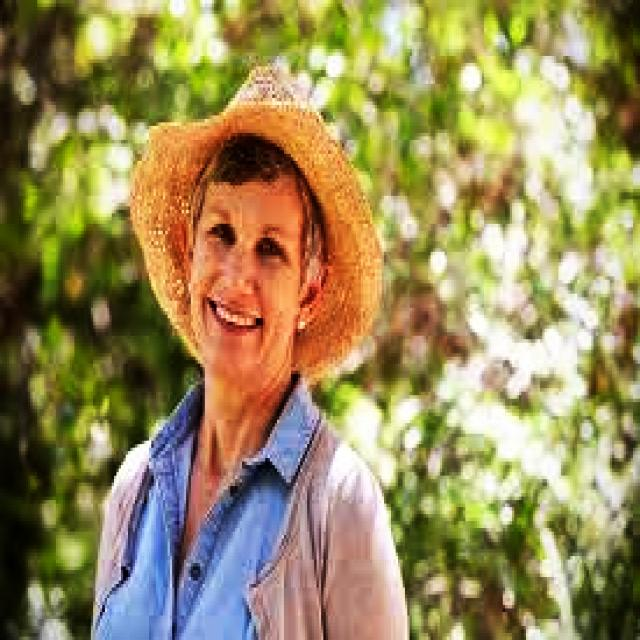TOPI: (126, 56, 384, 381)
